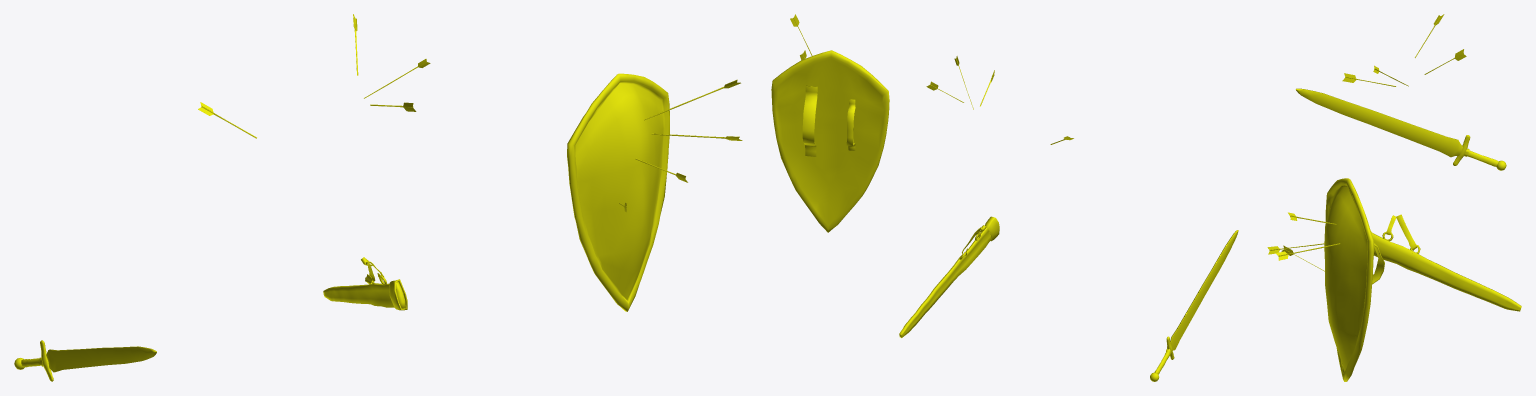
File: Weapon.fbx
3 renders of one model, left to right at view 1: azimuth 30°, elevation 25°; view 2: azimuth 150°, elevation 25°; view 3: azimuth 270°, elevation 25°, orthographic. The views are drawn at different scales.
Parts seen in each view (by area): view 1: weapon2, weapon20, weapon8; view 2: weapon2, weapon8, weapon20, weapon4; view 3: weapon2, weapon20, weapon8, weapon4, weapon24, weapon18.
Part boxes in pixels (left/top/right/bottom): weapon2: left=567, top=73, right=669, bottom=311; weapon20: left=46, top=346, right=156, bottom=372; weapon8: left=323, top=282, right=405, bottom=308; weapon2: left=771, top=50, right=889, bottom=232; weapon8: left=899, top=227, right=990, bottom=337; weapon20: left=1170, top=230, right=1238, bottom=350; weapon4: left=802, top=85, right=817, bottom=156; weapon2: left=1324, top=178, right=1374, bottom=381; weapon20: left=1295, top=88, right=1462, bottom=157; weapon8: left=1371, top=232, right=1521, bottom=311; weapon4: left=1372, top=243, right=1384, bottom=284; weapon24: left=1464, top=148, right=1498, bottom=166; weapon18: left=1396, top=214, right=1416, bottom=250.
Bounding box in the file's own units: 215 × 106 × 93.64.
